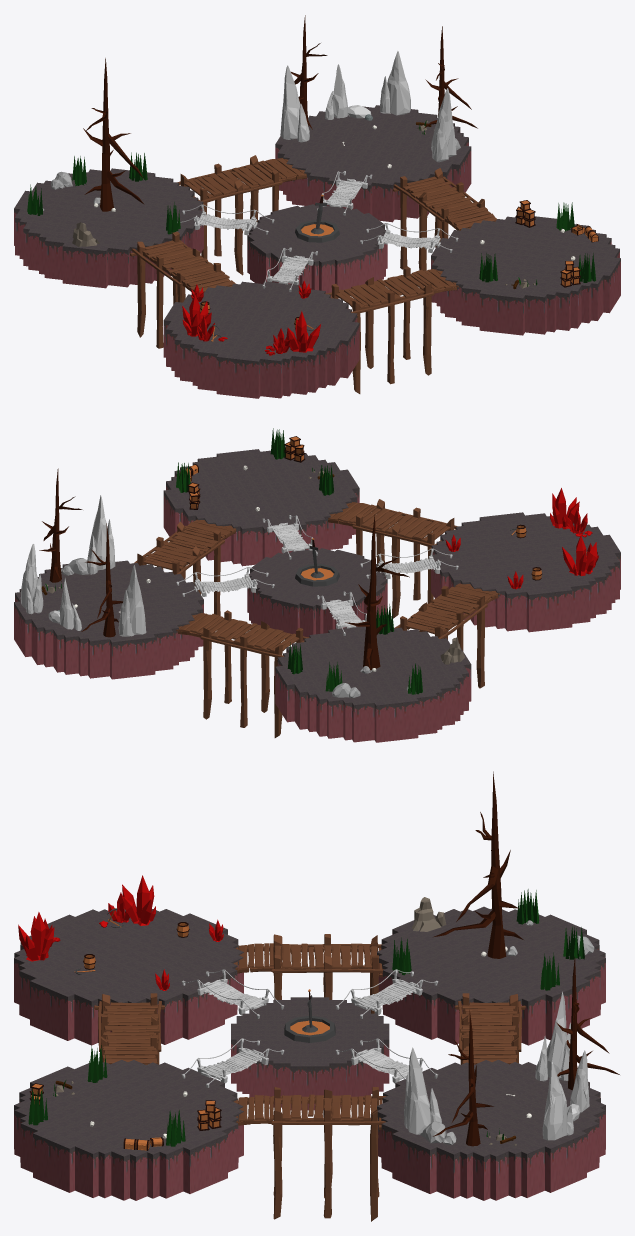
Rendered from CrazyPlanet_fbx.fbx.
3 views of the same model, one above another, from view 1: azimuth 30°, elevation 25°; view 2: azimuth 150°, elevation 25°; view 3: azimuth 270°, elevation 25° (orthographic). The views are drawn at different scales.
Parts seen in each view (by area): view 1: Object010, Object004, Object001, Object009, Stalagmite009, Stalagmite004, Stalagmite007, Сrystal_007, Сrystal_005, Shield001, Stalagmite001, Object003 (+1 smaller); view 2: Object010, Object004, Object001, Object009, Stalagmite009, Stalagmite007, Сrystal_007, Object003, Object002, Stalagmite004, Сrystal_005, Shield001 (+1 smaller); view 3: Object010, Object004, Object001, Object009, Stalagmite007, Stalagmite009, Object003, Сrystal_005, Stalagmite004, Object002, Shield001, Сrystal_007 (+2 smaller).
Boxes of the visible parts, x1=… form: Object010: x1=14, y1=105, x2=620, y2=398; Object004: x1=130, y1=155, x2=496, y2=393; Object001: x1=177, y1=171, x2=458, y2=291; Object009: x1=83, y1=58, x2=144, y2=211; Stalagmite009: x1=280, y1=65, x2=309, y2=142; Stalagmite004: x1=380, y1=51, x2=410, y2=115; Stalagmite007: x1=431, y1=88, x2=456, y2=162; Сrystal_007: x1=273, y1=311, x2=320, y2=353; Сrystal_005: x1=182, y1=294, x2=214, y2=341; Shield001: x1=295, y1=220, x2=339, y2=242; Stalagmite001: x1=325, y1=64, x2=347, y2=119; Object003: x1=423, y1=26, x2=477, y2=128; Object010: x1=14, y1=449, x2=620, y2=742; Object004: x1=134, y1=499, x2=499, y2=737; Object001: x1=176, y1=515, x2=458, y2=635; Object009: x1=345, y1=514, x2=409, y2=670; Stalagmite009: x1=118, y1=565, x2=146, y2=636; Stalagmite007: x1=86, y1=495, x2=115, y2=574; Сrystal_007: x1=550, y1=488, x2=587, y2=533; Object003: x1=39, y1=468, x2=82, y2=582; Object002: x1=81, y1=523, x2=122, y2=637; Stalagmite004: x1=20, y1=544, x2=43, y2=613; Сrystal_005: x1=562, y1=535, x2=598, y2=576; Shield001: x1=295, y1=564, x2=339, y2=586; Object010: x1=14, y1=906, x2=605, y2=1200; Object004: x1=94, y1=934, x2=525, y2=1221; Object001: x1=182, y1=969, x2=438, y2=1087; Object009: x1=433, y1=771, x2=523, y2=958; Stalagmite007: x1=404, y1=1047, x2=441, y2=1134; Stalagmite009: x1=535, y1=991, x2=570, y2=1081; Object003: x1=433, y1=1010, x2=493, y2=1146; Сrystal_005: x1=108, y1=875, x2=155, y2=925; Stalagmite004: x1=542, y1=1061, x2=567, y2=1140; Object002: x1=556, y1=957, x2=619, y2=1090; Shield001: x1=284, y1=1016, x2=335, y2=1042; Сrystal_007: x1=18, y1=912, x2=54, y2=961.
Size of what is drawn, in the model's own units: 519 by 276 by 533.
